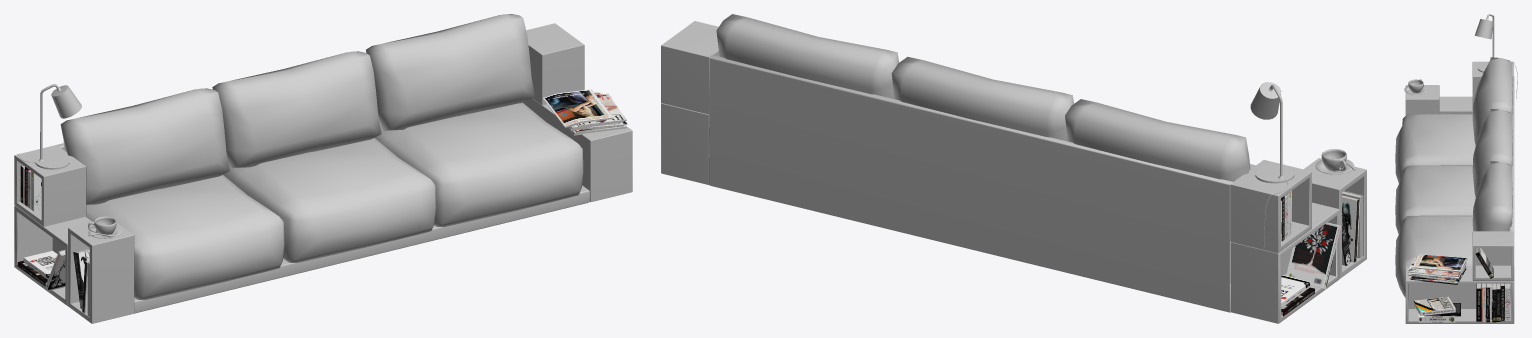
The model's file is sofa05.FBX.
3 views of the same model, side by side, from view 1: azimuth 30°, elevation 25°; view 2: azimuth 150°, elevation 25°; view 3: azimuth 270°, elevation 25° (orthographic). The views are drawn at different scales.
Visible parts, largest first — view 1: headusOBJexport, Box001, headusOBJexport004, headusOBJexport002, ____028, ____025, headusOBJexport003, ____029; view 2: Box001, headusOBJexport, headusOBJexport004, ____028, ____030, ____025; view 3: headusOBJexport, Box001, headusOBJexport004, headusOBJexport002, ____041, headusOBJexport003, ____043, ____032, ____040, ____033, ____039, ____036 (+9 smaller).
Part boxes in pixels (left/top/right/bottom): headusOBJexport: left=60, top=14, right=583, bottom=299; Box001: left=14, top=23, right=632, bottom=323; headusOBJexport004: left=18, top=84, right=121, bottom=238; headusOBJexport002: left=543, top=89, right=613, bottom=127; ____028: left=45, top=250, right=65, bottom=291; ____025: left=23, top=250, right=57, bottom=279; headusOBJexport003: left=577, top=93, right=626, bottom=126; ____029: left=73, top=248, right=89, bottom=308; Box001: left=661, top=21, right=1366, bottom=323; headusOBJexport: left=716, top=14, right=1255, bottom=181; headusOBJexport004: left=1250, top=82, right=1356, bottom=248; ____028: left=1286, top=222, right=1341, bottom=289; ____030: left=1342, top=195, right=1360, bottom=262; ____025: left=1281, top=275, right=1310, bottom=307; headusOBJexport: left=1395, top=57, right=1512, bottom=297; Box001: left=1405, top=61, right=1514, bottom=323; headusOBJexport004: left=1404, top=14, right=1517, bottom=98; headusOBJexport002: left=1412, top=254, right=1467, bottom=272; ____041: left=1413, top=296, right=1455, bottom=316; headusOBJexport003: left=1407, top=257, right=1453, bottom=276; ____043: left=1418, top=314, right=1455, bottom=322; ____032: left=1475, top=248, right=1493, bottom=278; ____040: left=1476, top=283, right=1481, bottom=321; ____033: left=1505, top=283, right=1510, bottom=321; ____039: left=1481, top=283, right=1485, bottom=322; ____036: left=1492, top=283, right=1496, bottom=322.
Size of the model in its own units: 272 by 89.33 by 74.14.
